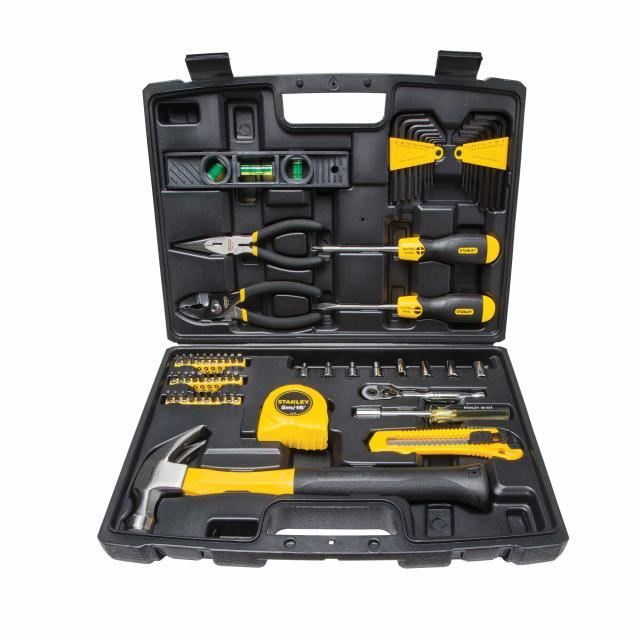hammer: (114, 420, 508, 546)
screwdriver: (311, 228, 512, 272), (304, 290, 510, 326)
